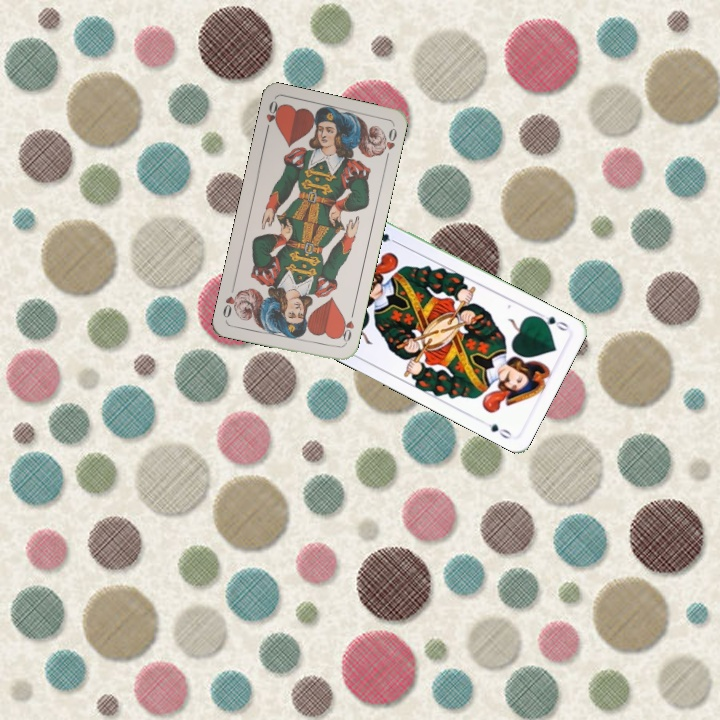GO: (533, 309, 571, 334)
HO: (335, 307, 357, 347), (261, 97, 283, 137)
